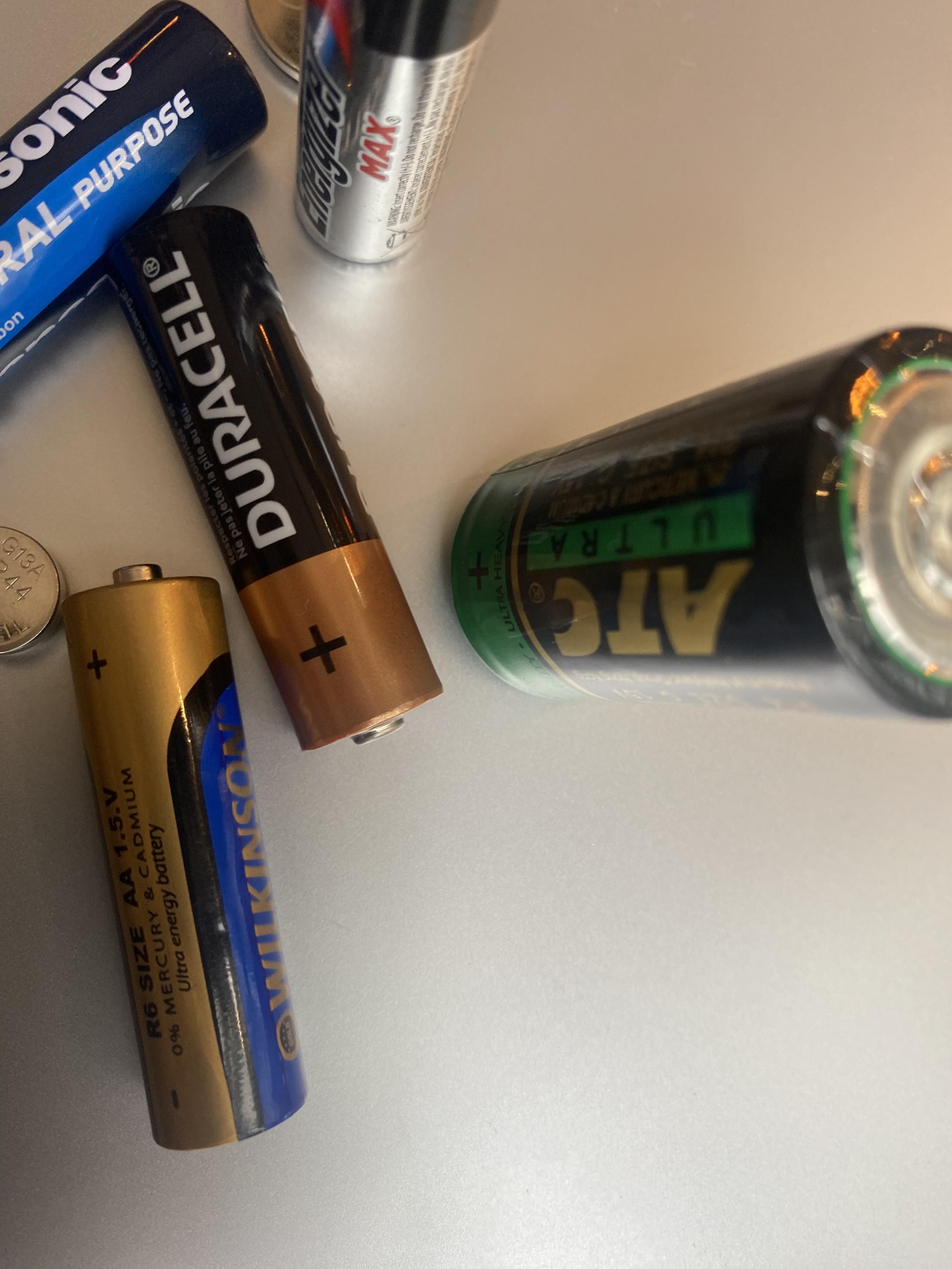AA: (59, 561, 309, 1151)
